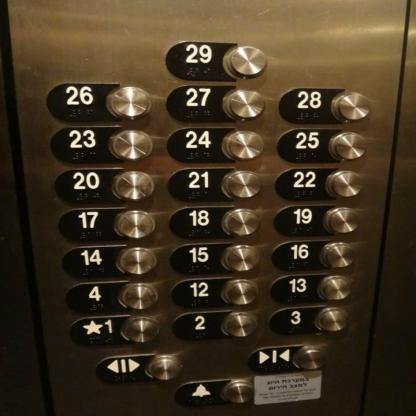12: (167, 275, 260, 308)
13: (268, 272, 356, 304)
14: (61, 244, 158, 280)
15: (168, 241, 261, 275)
16: (270, 238, 360, 272)
17: (57, 206, 156, 244)
18: (165, 204, 262, 239)
19: (271, 202, 362, 238)
2: (167, 308, 260, 341)
20: (52, 167, 156, 204)
21: (165, 166, 265, 202)
22: (273, 166, 366, 201)
23: (51, 124, 155, 165)
24: (164, 124, 268, 164)
25: (276, 127, 368, 162)
26: (47, 80, 152, 122)
27: (164, 83, 269, 122)
28: (278, 86, 372, 126)
29: (164, 39, 268, 81)
3: (268, 305, 352, 335)
4: (64, 280, 160, 313)
alarm: (172, 376, 256, 407)
close: (247, 342, 328, 376)
open: (92, 352, 184, 384)
s1: (67, 313, 162, 347)
